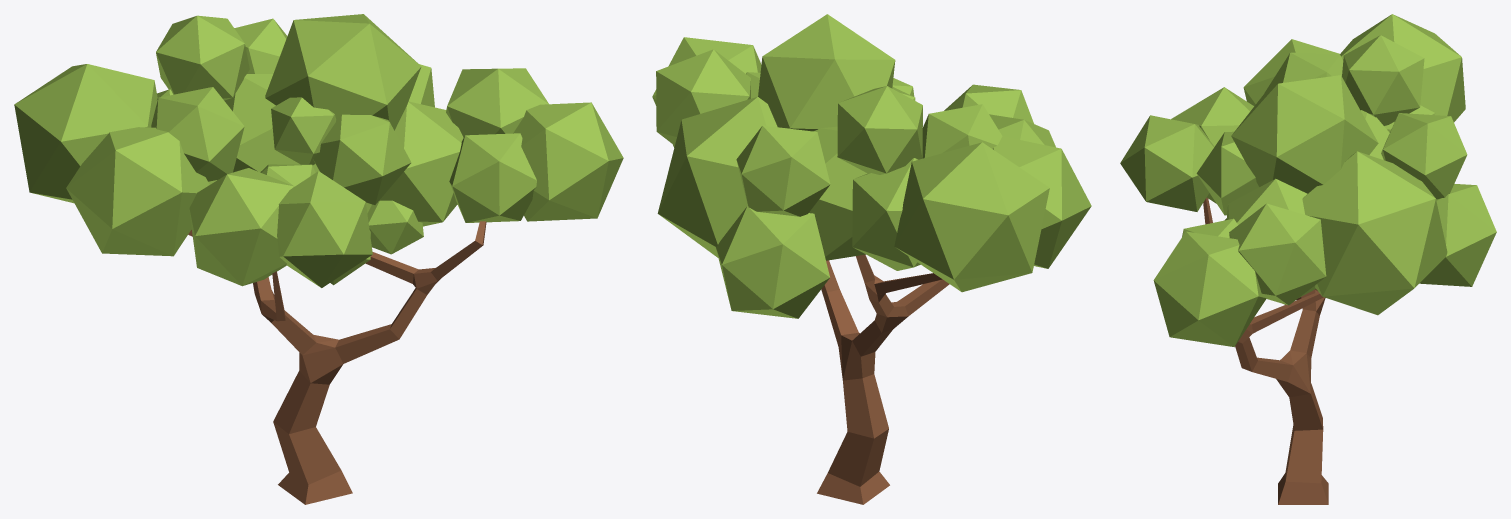
Rendered from Oak1.fbx.
The picture shows the model from 3 angles, left to right: view 1: azimuth 30°, elevation 25°; view 2: azimuth 150°, elevation 25°; view 3: azimuth 270°, elevation 25°; orthographic projection. The views are drawn at different scales.
Parts seen in each view (by area): view 1: Oak1; view 2: Oak1; view 3: Oak1.
Part boxes in pixels (box(x1,y1,x2,y2)): Oak1: box(14, 14, 623, 504); Oak1: box(652, 14, 1091, 504); Oak1: box(1120, 14, 1496, 504).
Size of the model in its own units: 774 by 709 by 565.
1 material, 1 textured.
